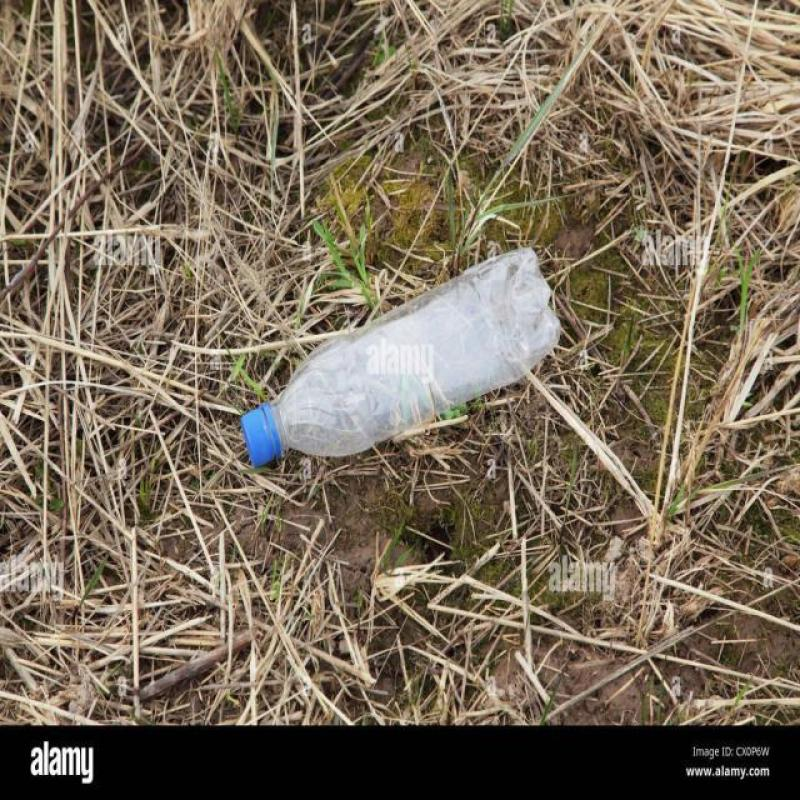botella: (236, 245, 560, 474)
